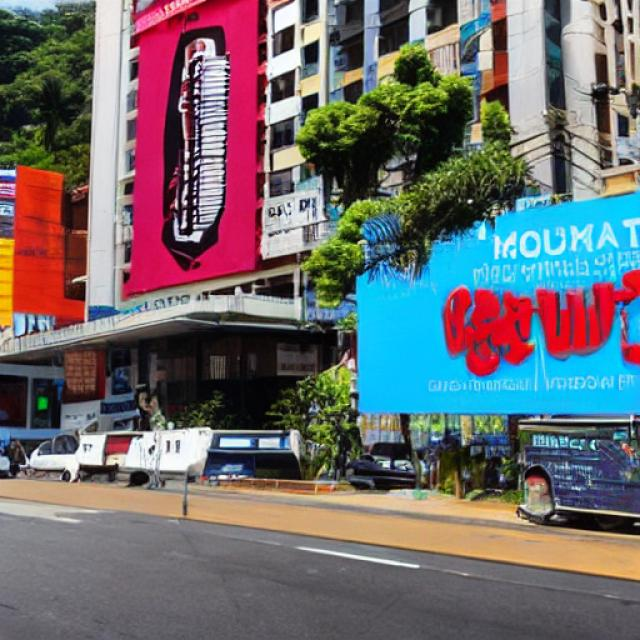Billboard: (354, 191, 640, 415), (132, 0, 258, 304)
